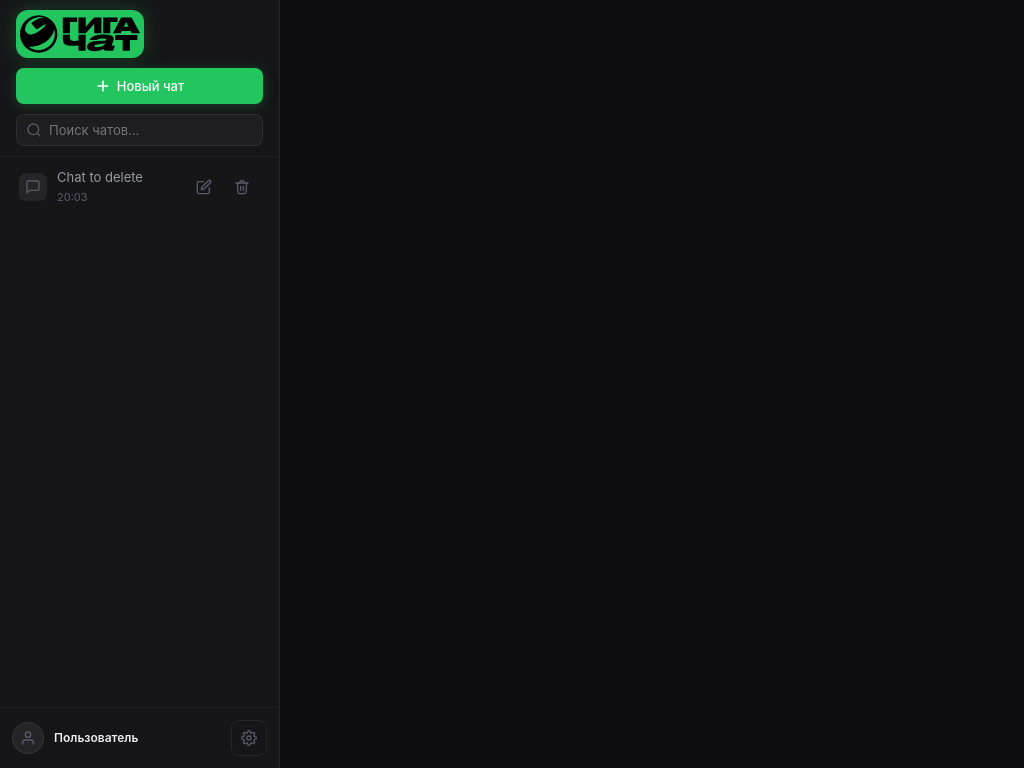
Test: Sidebar — удаление › чат остается, если пользователь отменил удаление
Step 1. Click the button titled "Удалить" → [242, 187], box [224,169,260,205]
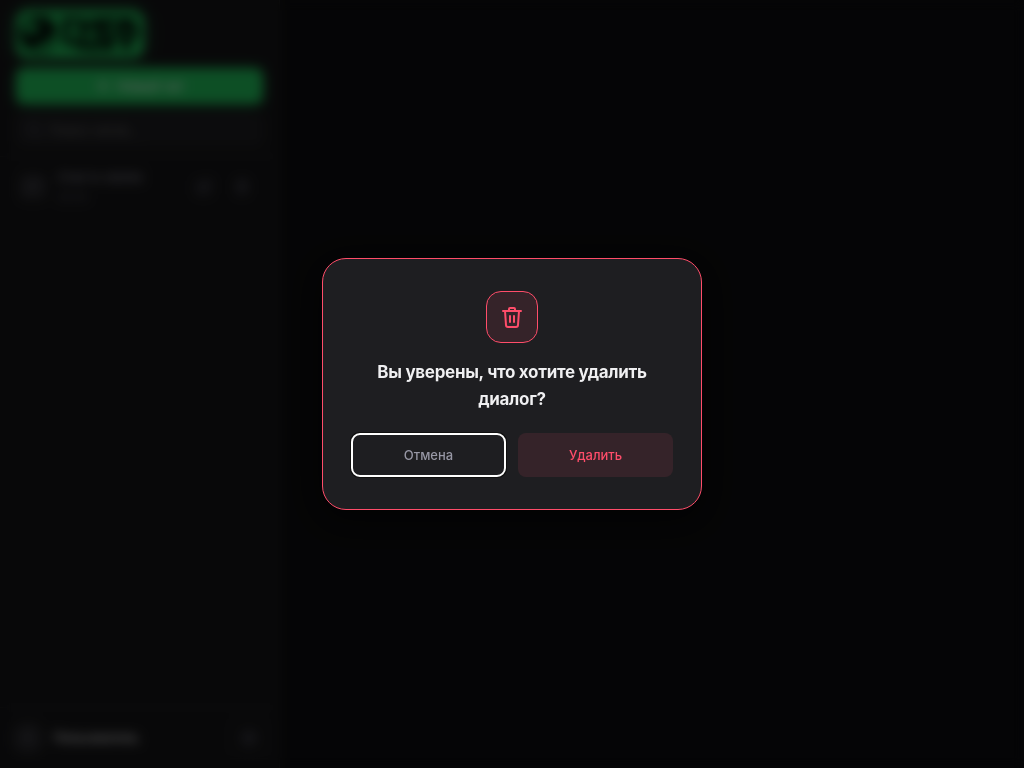
Step 2. Click the button "Отмена" → [428, 455], box [351,433,506,477]
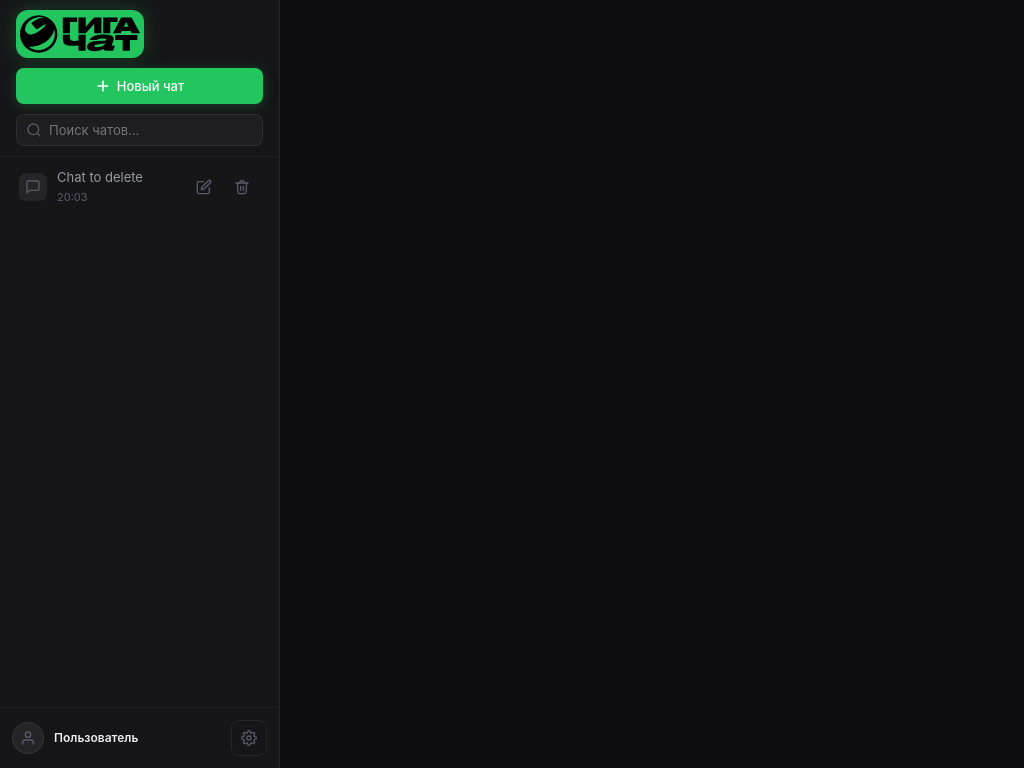
Expected: the text "Chat to delete" is shown, [57,169,143,185]
Expected: the dialog is gone
